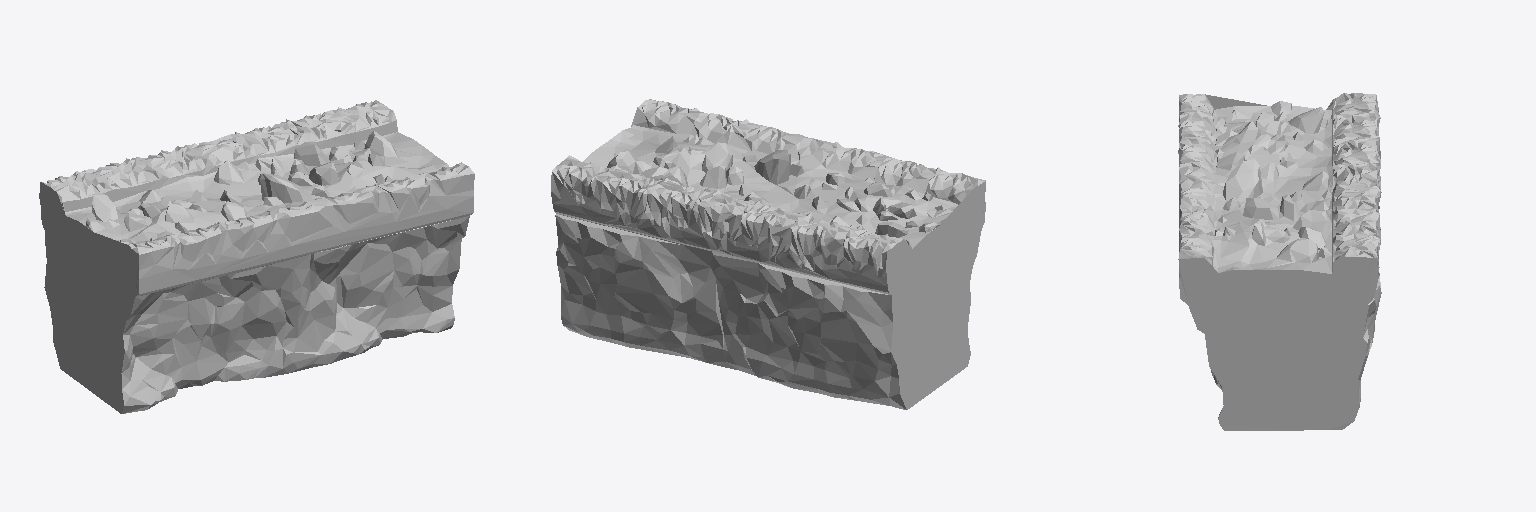
3 renders of one model, left to right at view 1: azimuth 30°, elevation 25°; view 2: azimuth 150°, elevation 25°; view 3: azimuth 270°, elevation 25°, orthographic.
Parts seen in each view (by area): view 1: base_3_low:Group32980; view 2: base_3_low:Group32980; view 3: base_3_low:Group32980.
Part boxes in pixels (x1,y1,x2,y2): base_3_low:Group32980: (39, 100, 474, 413); base_3_low:Group32980: (551, 99, 985, 409); base_3_low:Group32980: (1178, 93, 1381, 430).
Size of the model in its own units: 98.67 by 52.63 by 51.74.